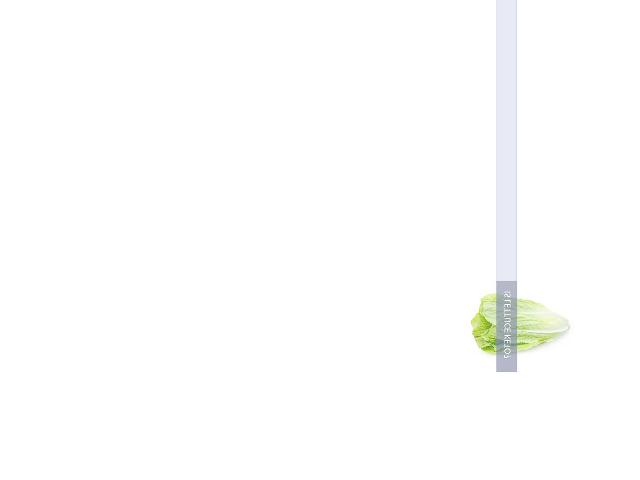lettuce: (471, 291, 578, 360)
